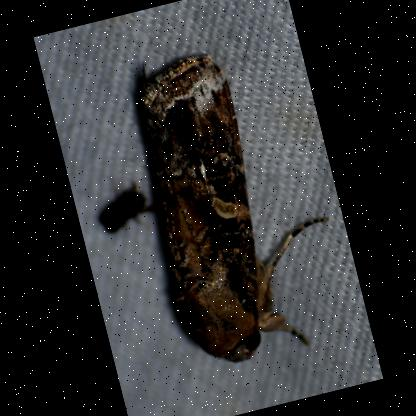Fall Armyworm Moth: (110, 22, 363, 382)
